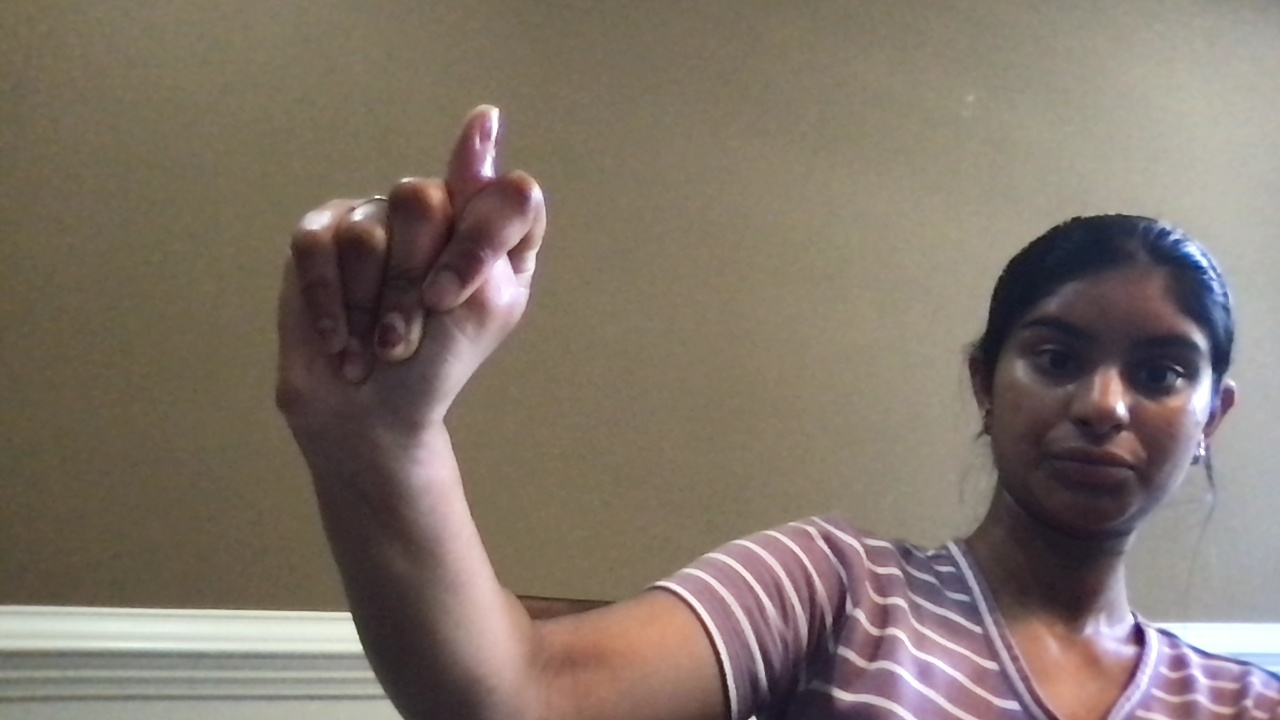Bathroom: (221, 61, 603, 461)
